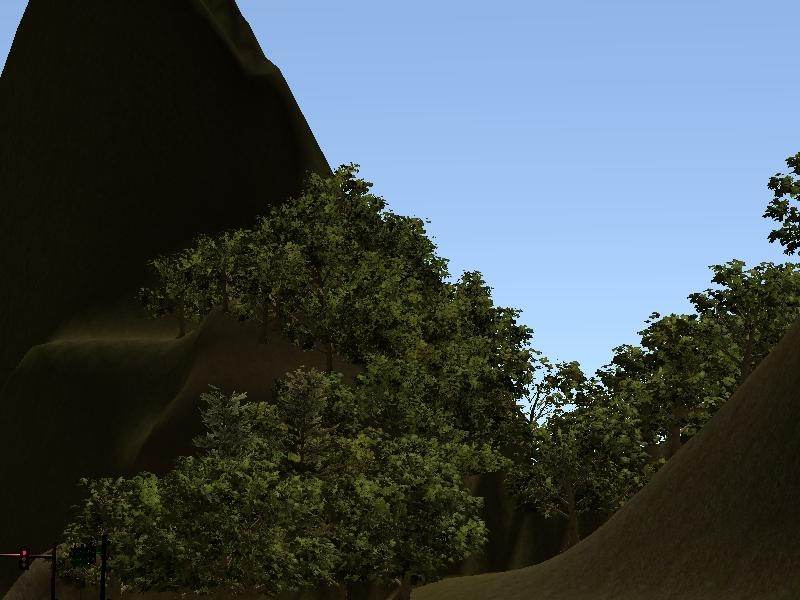Red: (18, 546, 30, 571)
